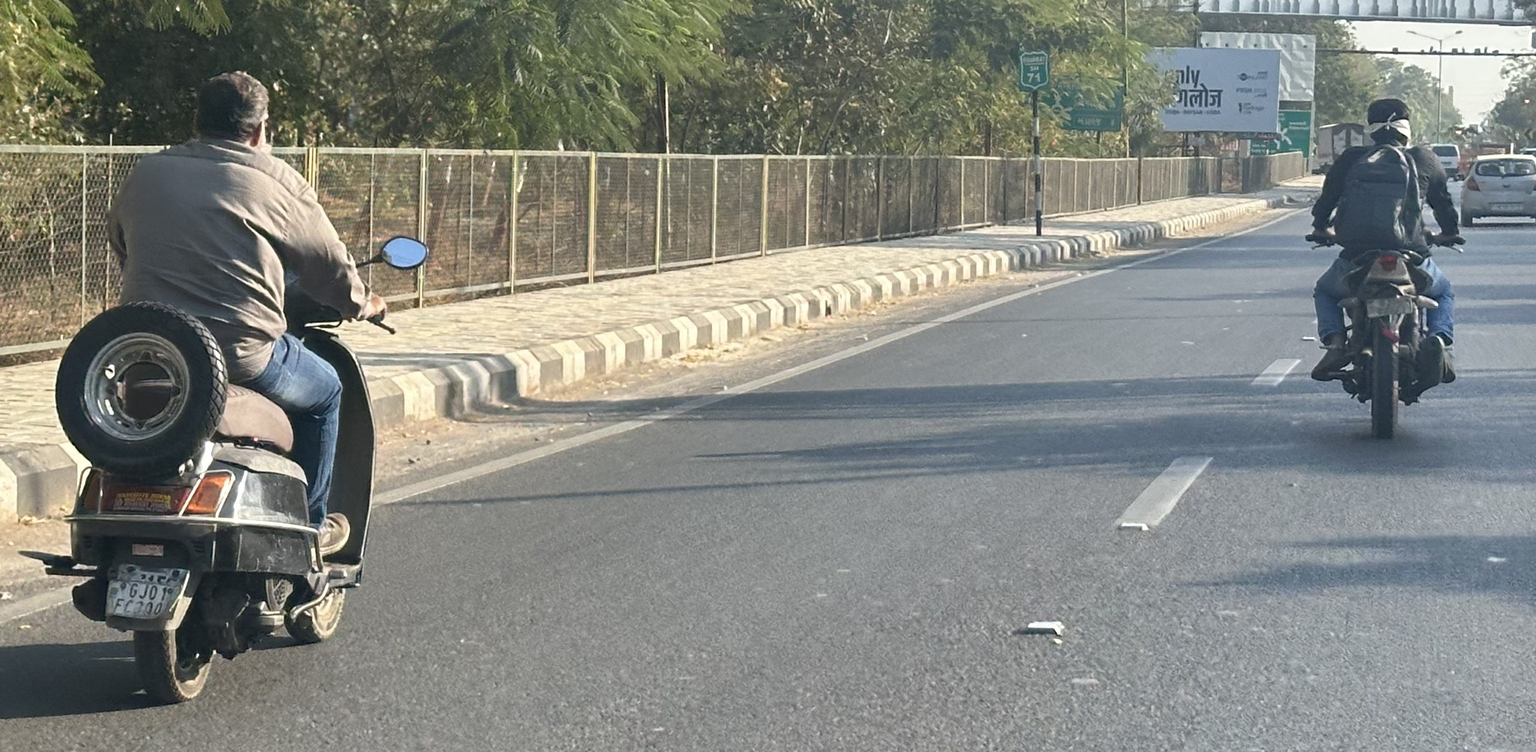BikeWithRider: (15, 53, 442, 712), (1283, 83, 1481, 451)
NoHelmet: (176, 62, 287, 159), (1356, 91, 1421, 153)
